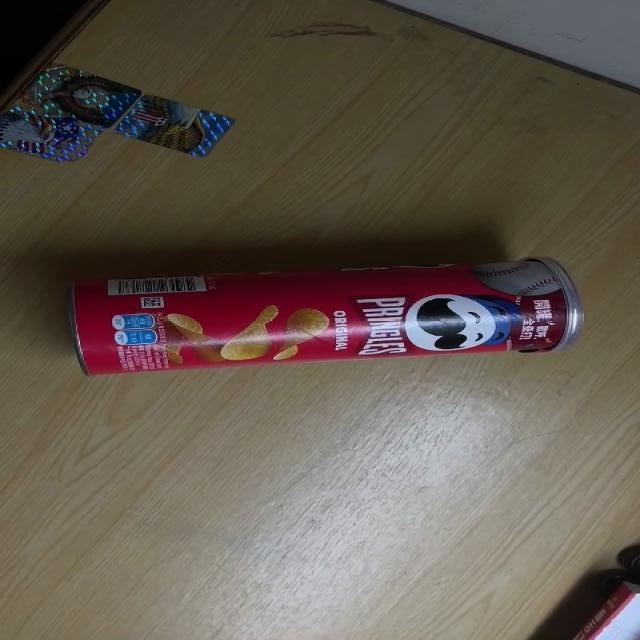Pringles: (68, 254, 582, 379)
